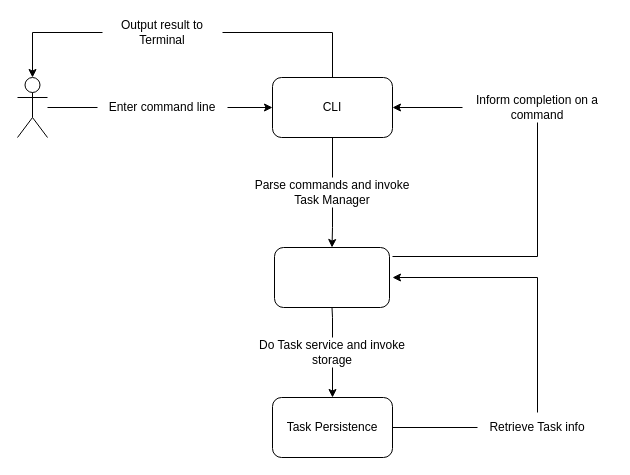
This 630x475 diagram has some shape labels left out. The shapes that lost their labels are listed below. From the top down, each one's centre as x and y in pixels, then its label:
point 32,107: USer
point 332,277: Task Manager
